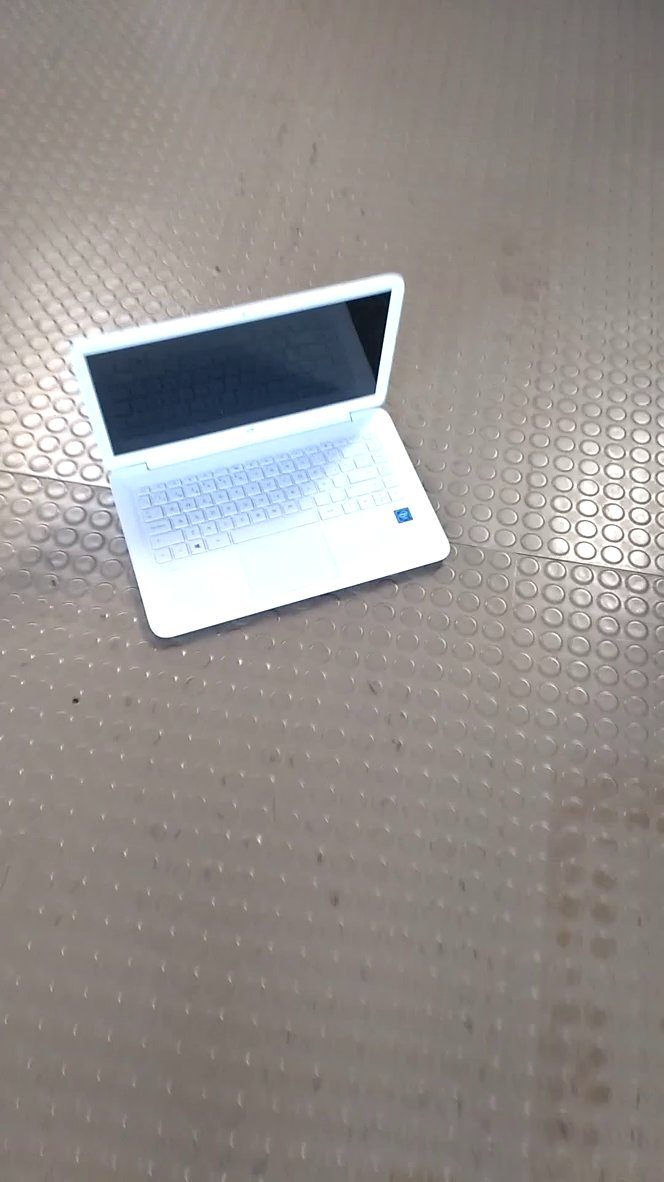laptop: (54, 269, 475, 663)
